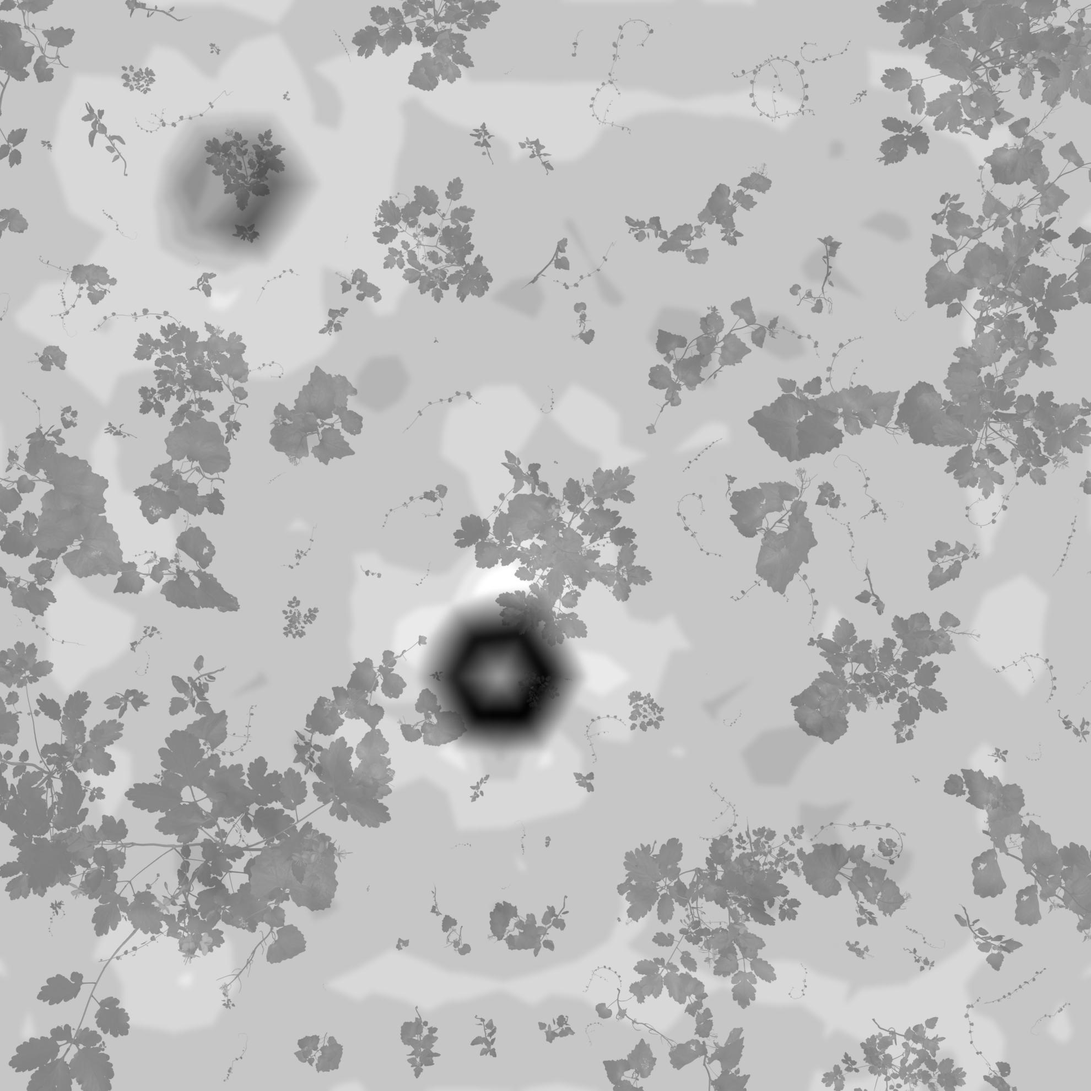landmine: (142, 117, 335, 264), (433, 600, 580, 758)
